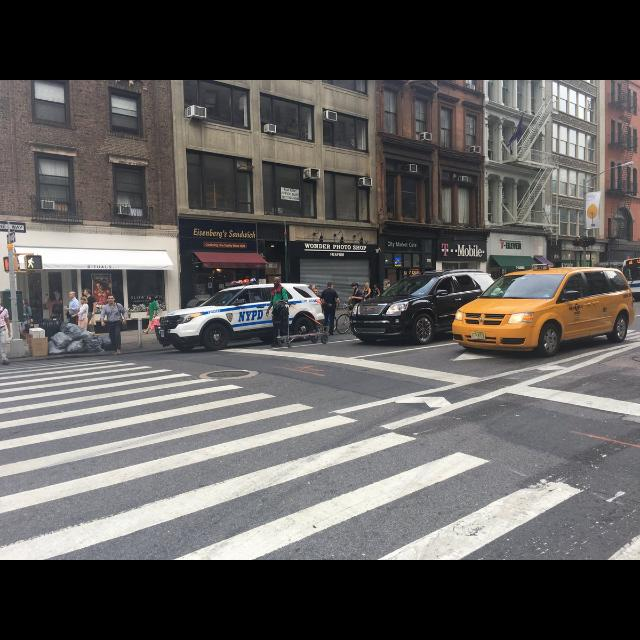head: (106, 294, 115, 304), (274, 277, 280, 287), (80, 298, 88, 304), (328, 282, 334, 290), (352, 283, 358, 291), (0, 297, 4, 307), (149, 295, 155, 301), (84, 290, 90, 296), (70, 292, 76, 298), (50, 293, 56, 299), (21, 299, 27, 305), (365, 284, 369, 288), (375, 284, 379, 288)
person: (100, 294, 128, 356), (266, 276, 290, 346), (320, 282, 340, 336), (70, 296, 90, 342), (0, 296, 12, 366), (82, 288, 98, 340), (142, 294, 162, 334), (64, 290, 80, 340), (348, 282, 364, 332), (18, 298, 34, 347), (46, 292, 62, 331), (362, 282, 372, 314), (372, 284, 382, 314)
